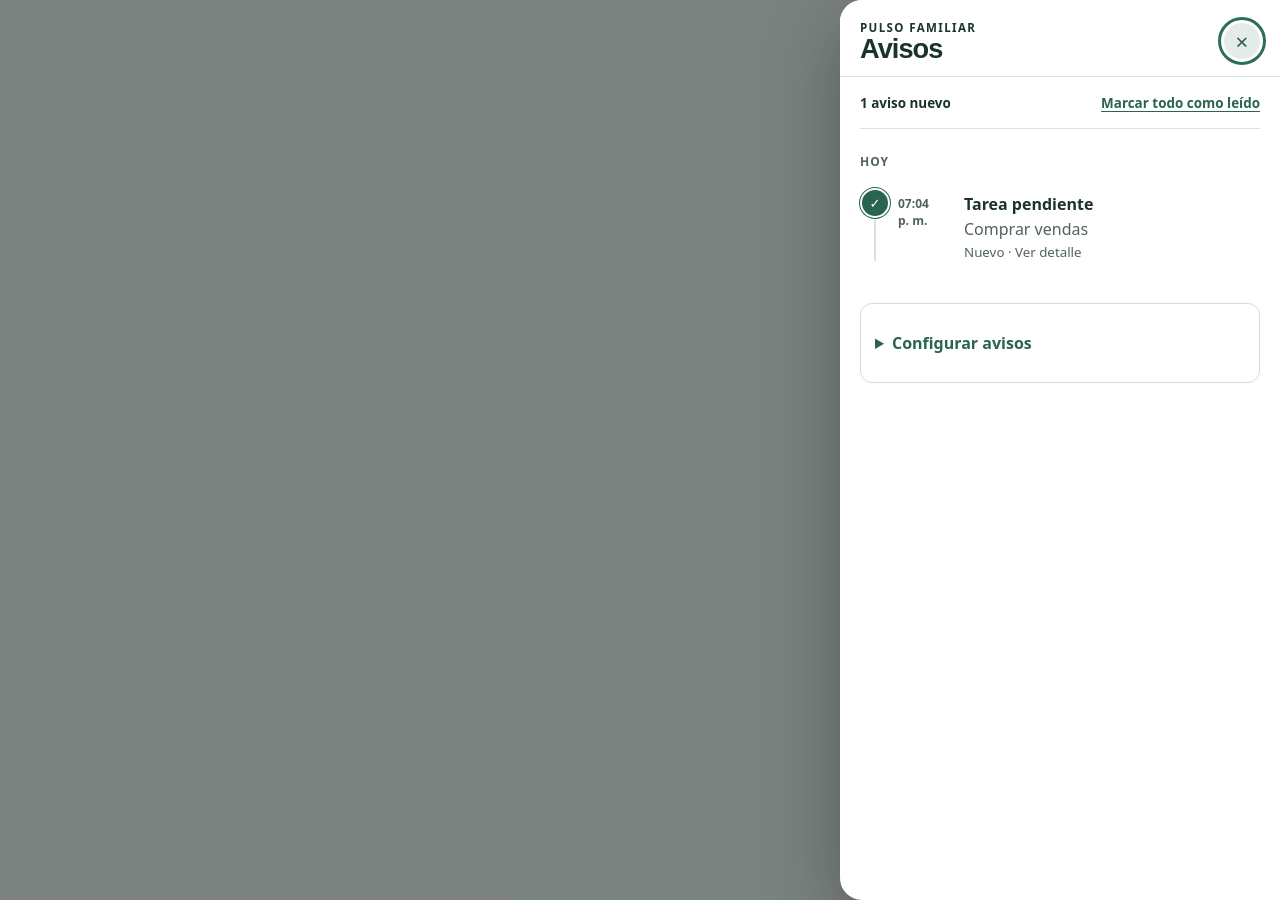
Test: CentroNotificaciones › explica por qué el push está desactivado sin ocultar la bandeja privada
This screenshot has width=1280, height=900.
Click the heading "Configurar avisos": coordinates (962, 343) [892,332,1032,354]
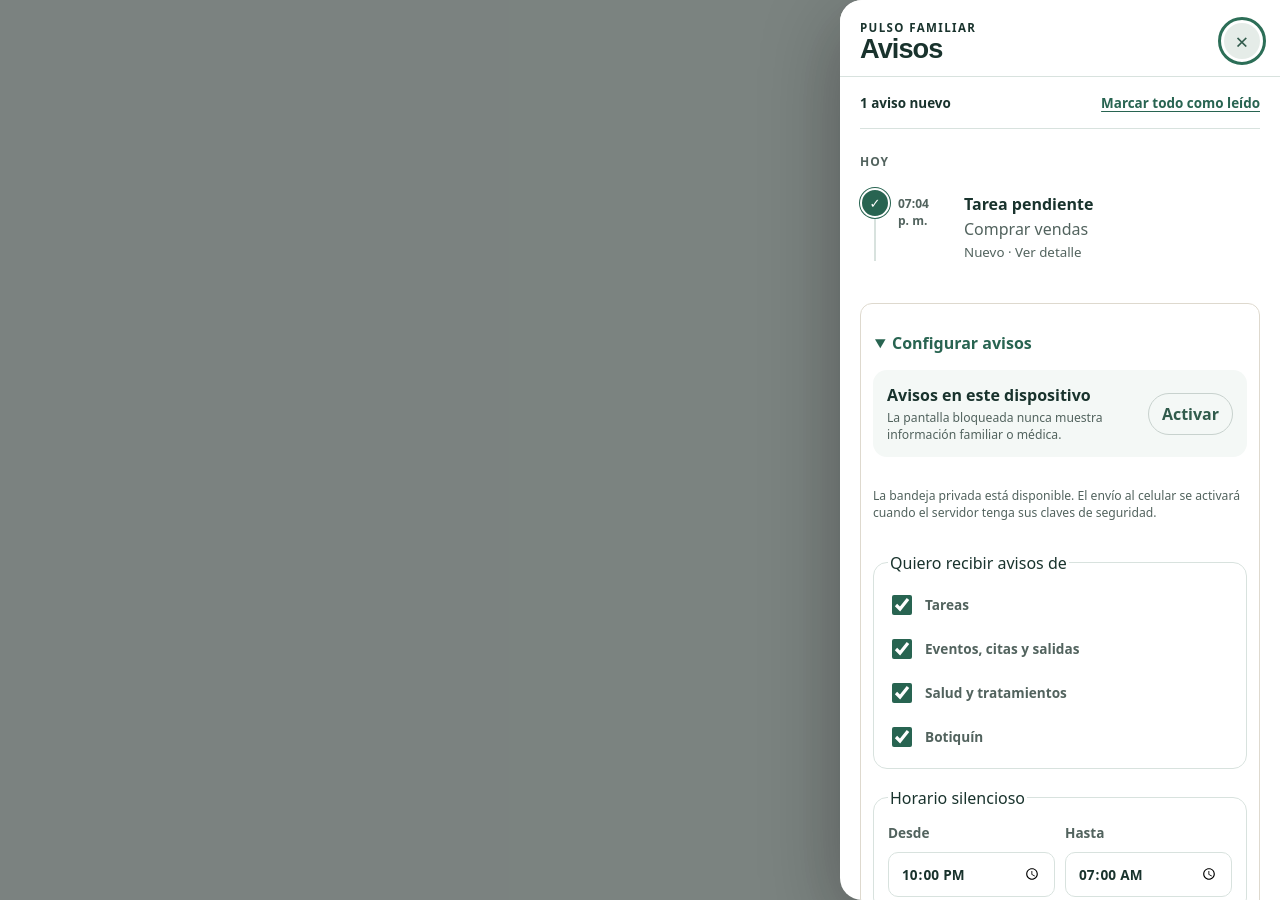
Expected: the text "La bandeja privada está disponible" is shown, [873,487,1240,521]
